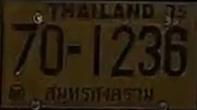0: (40, 24, 64, 75)
1: (93, 24, 100, 75)
2: (111, 24, 134, 76)
3: (138, 25, 160, 75)
6: (163, 25, 187, 76)
7: (12, 22, 38, 74)
SKM: (43, 81, 158, 108)
